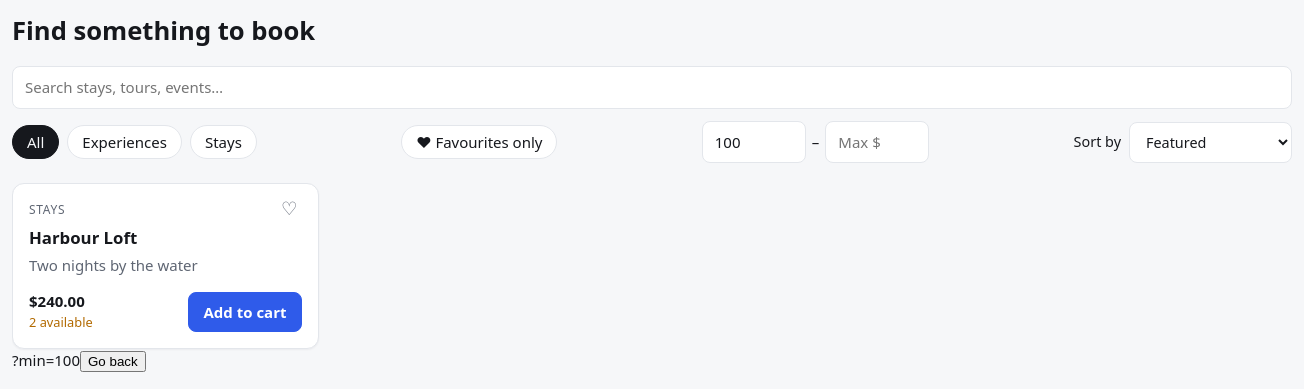
Test: Products page › filters by price range on the client
The image size is (1304, 389).
Expected: the heading "Harbour Loft" is shown, [29, 226, 137, 249]
Clear the number field named "Minimum price". click: [754, 142]
box: [702, 121, 806, 163]
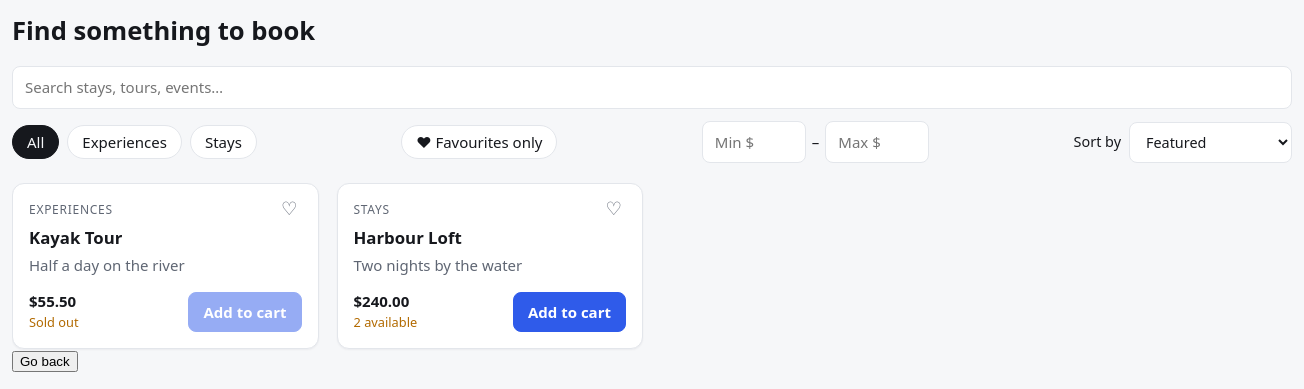
Type "55.5" into the number field named "Maximum price". click: [877, 142]
box: [825, 121, 929, 163]
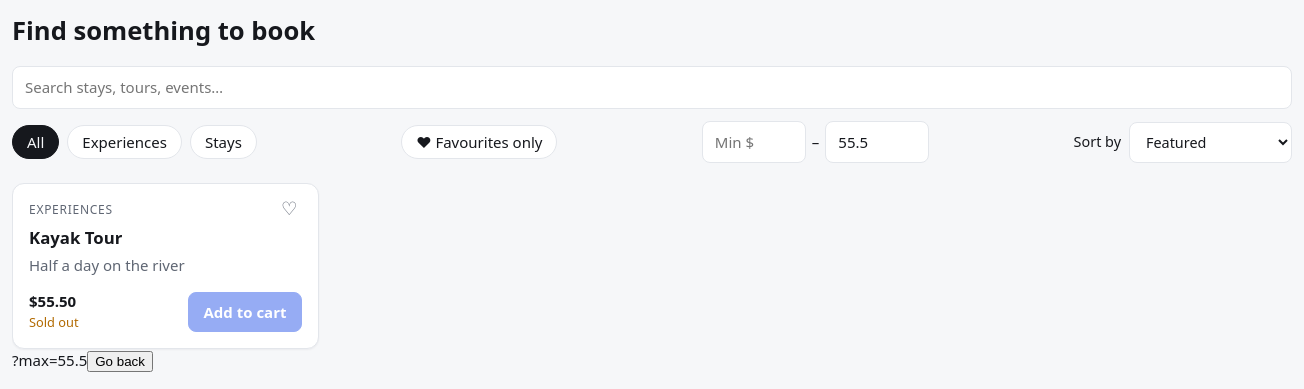
Replace the text in the number field named "Maximum price" with "10". click: [877, 142]
box: [825, 121, 929, 163]
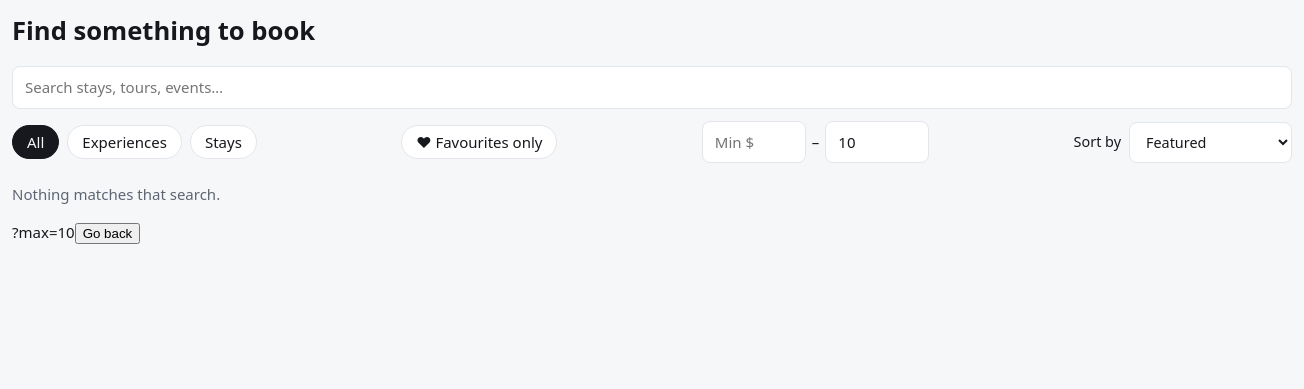
Now the text "Nothing matches that search." is shown, box [12, 184, 220, 204]
